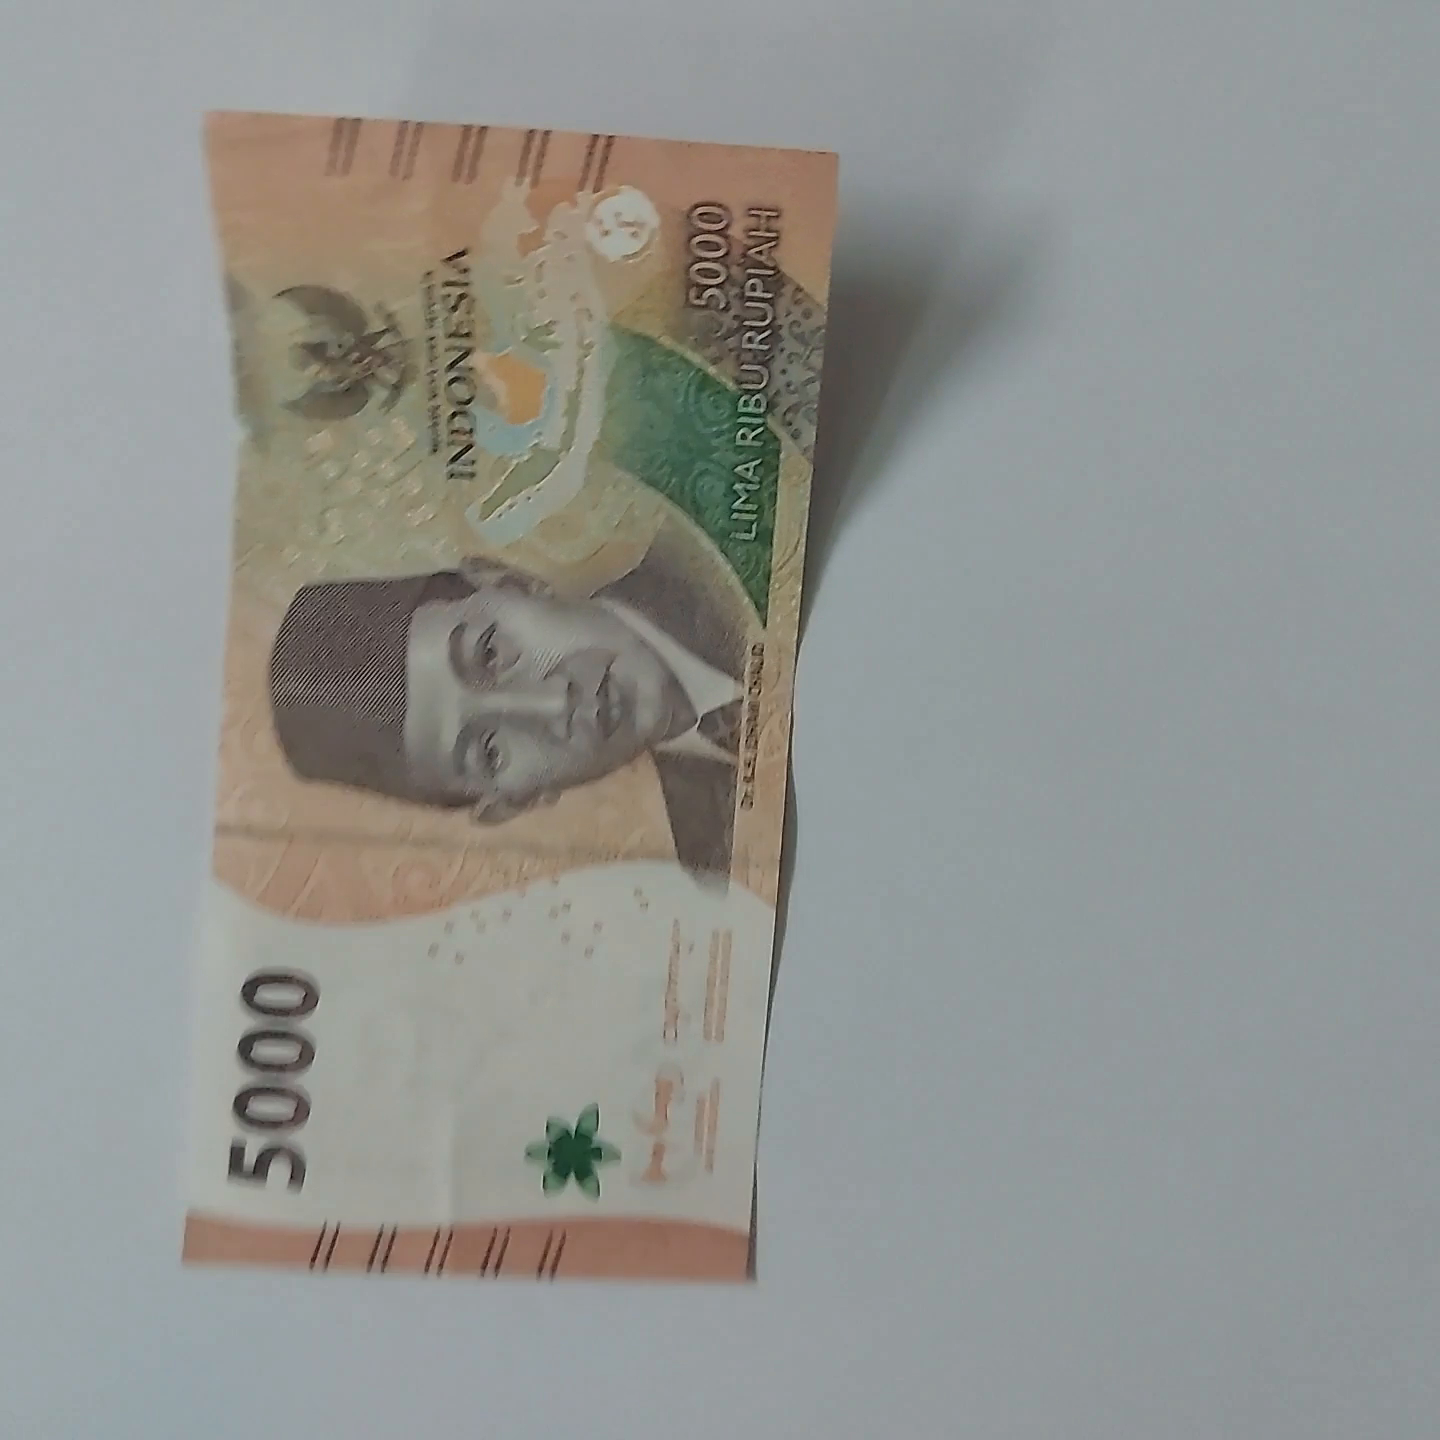5k: (153, 98, 849, 1287)
